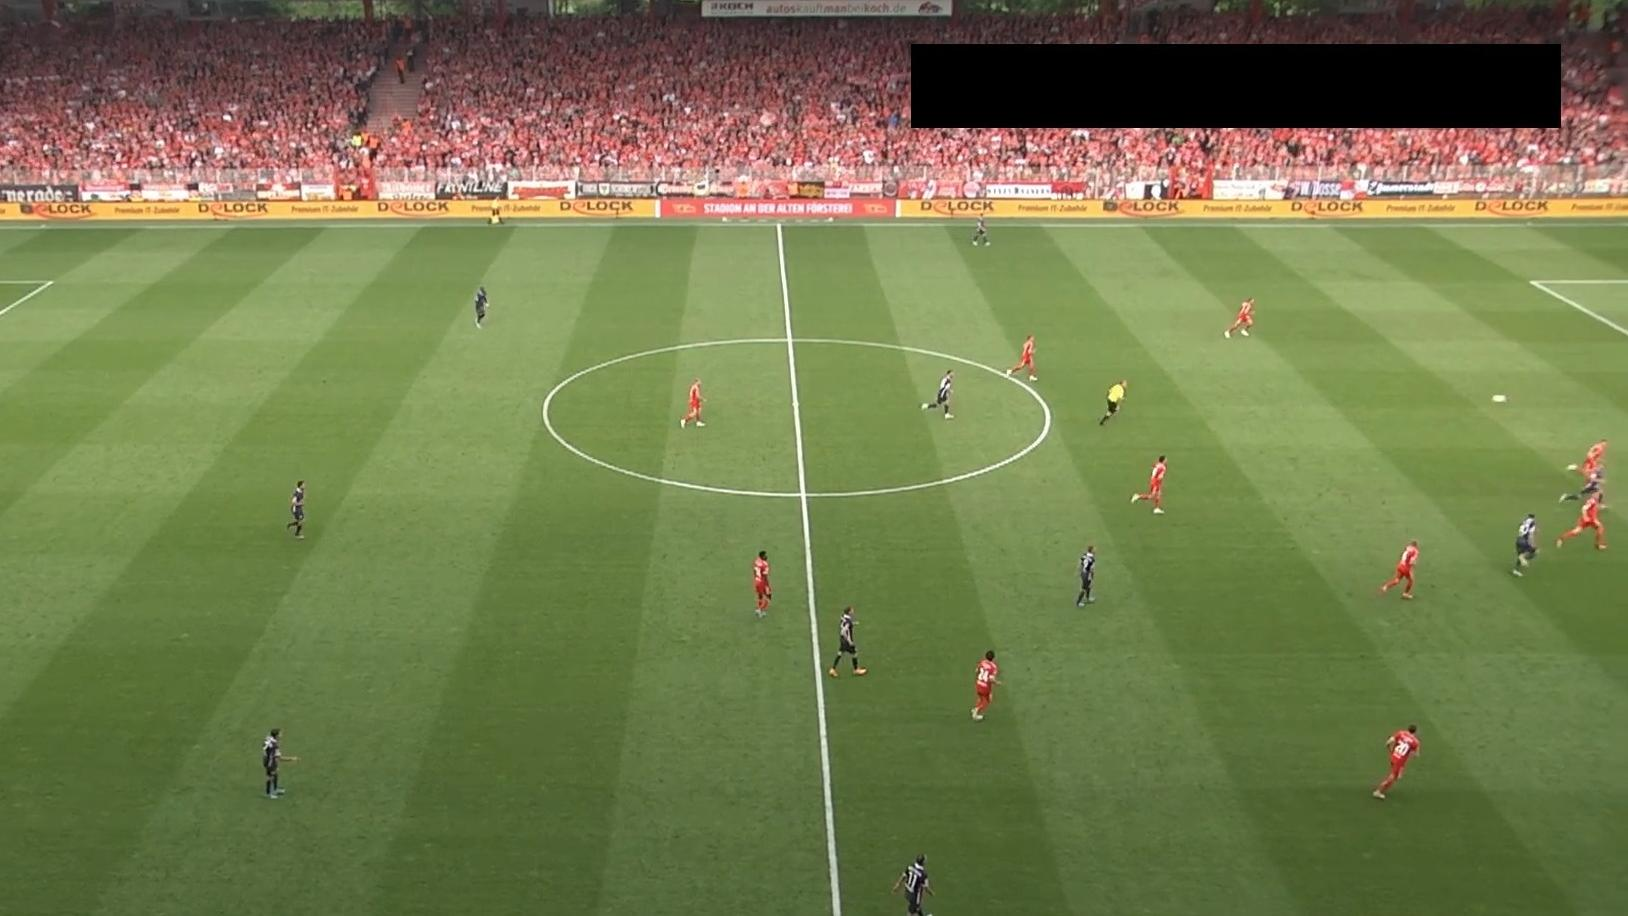ball: (1489, 392, 1510, 405)
